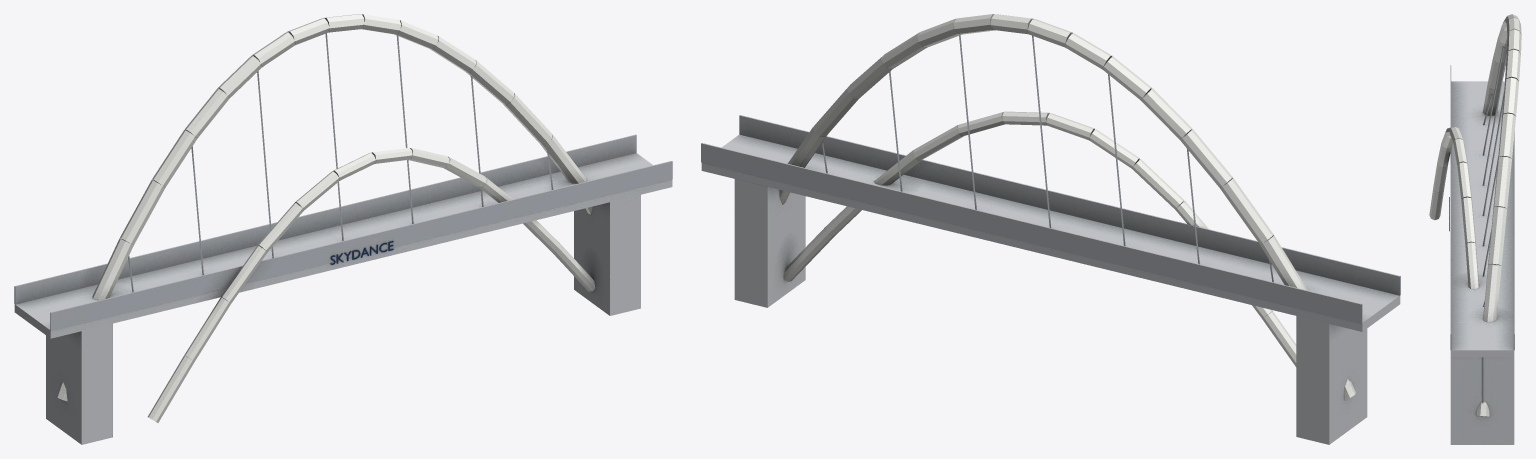
File: skydance.glb
3 renders of one model, left to right at view 1: azimuth 30°, elevation 25°; view 2: azimuth 150°, elevation 25°; view 3: azimuth 270°, elevation 25°, orthographic. The views are drawn at different scales.
Visible parts, largest first — view 1: skydance; view 2: skydance; view 3: skydance.
Boxes of the visible parts, x1=… form: skydance: x1=14, y1=14, x2=672, y2=444; skydance: x1=701, y1=14, x2=1400, y2=444; skydance: x1=1429, y1=14, x2=1521, y2=444.
Size of the model in its own units: 40 by 20.45 by 5.8.
1 material, 1 textured.
